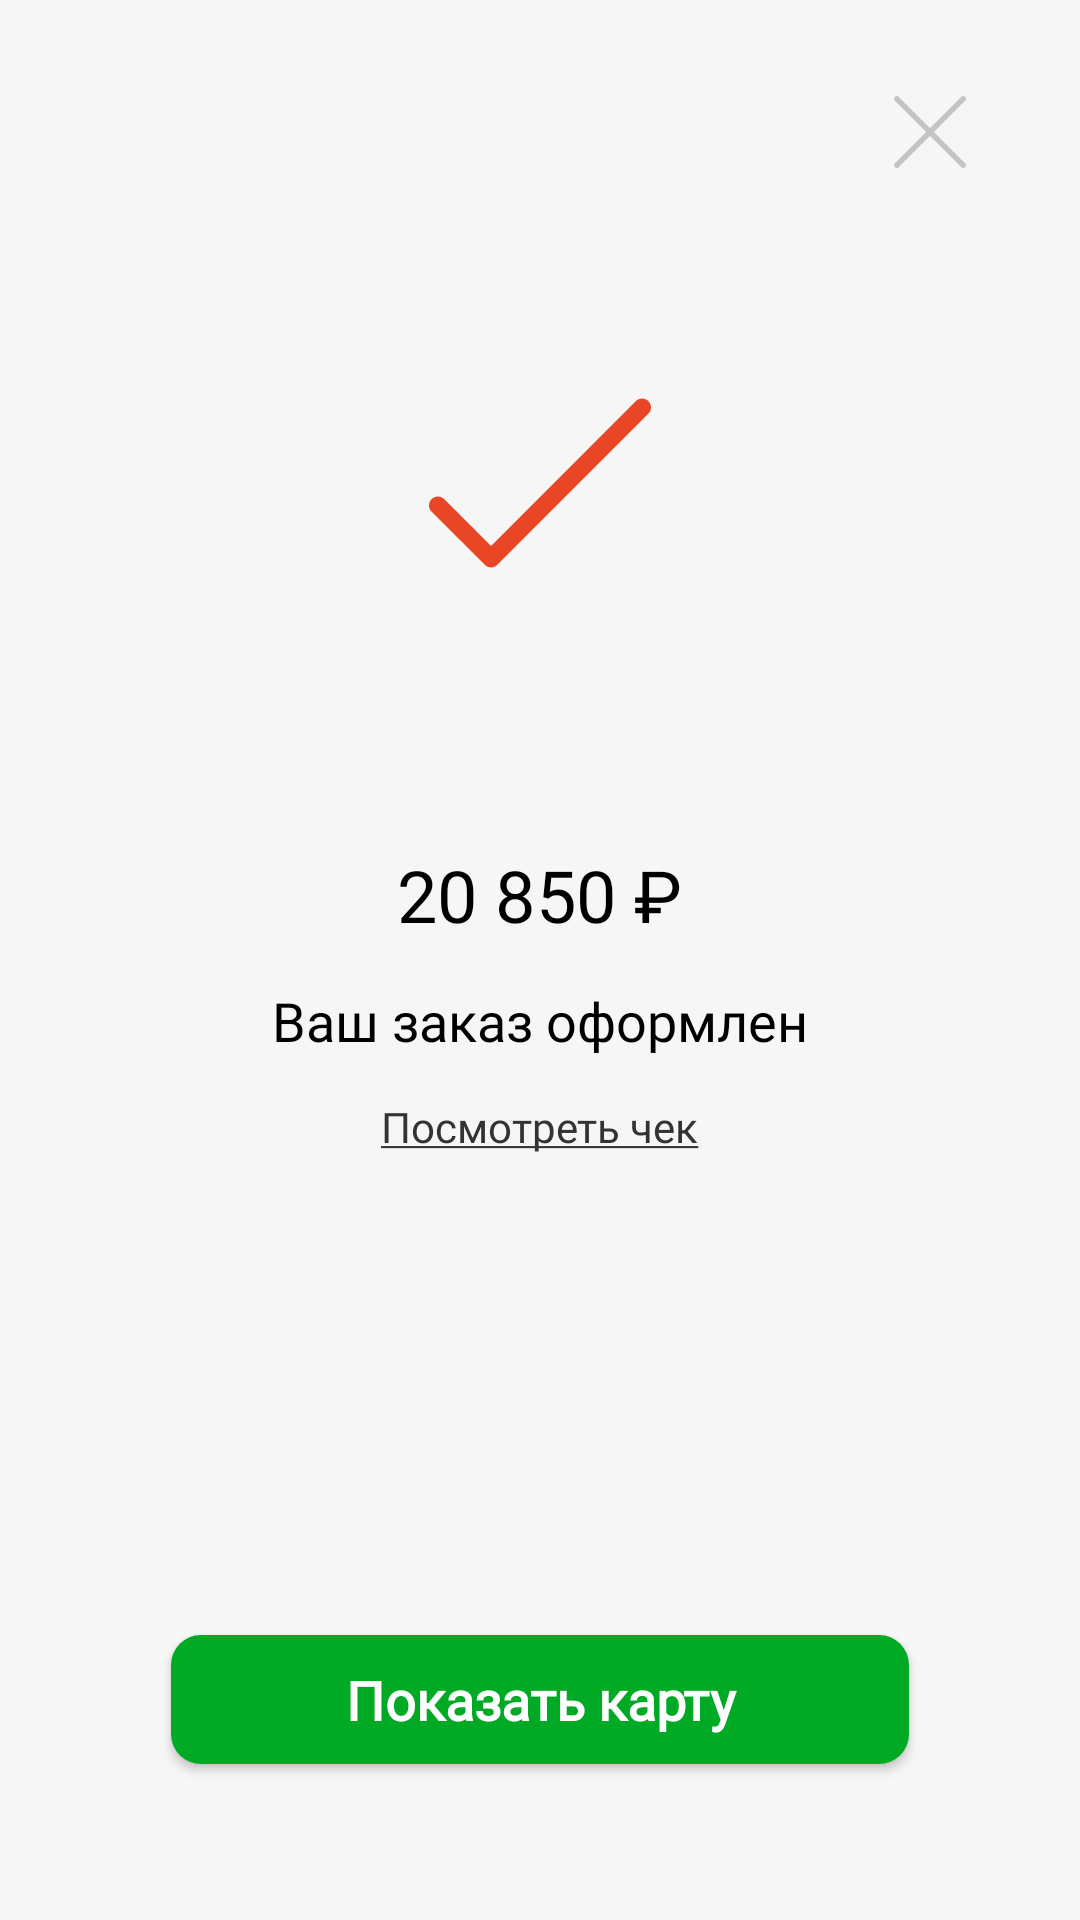

Named icons in this screenshot (1080px×1920px) and their centers, [x,y]:
cancel: [930,132]
check: [540,483]
